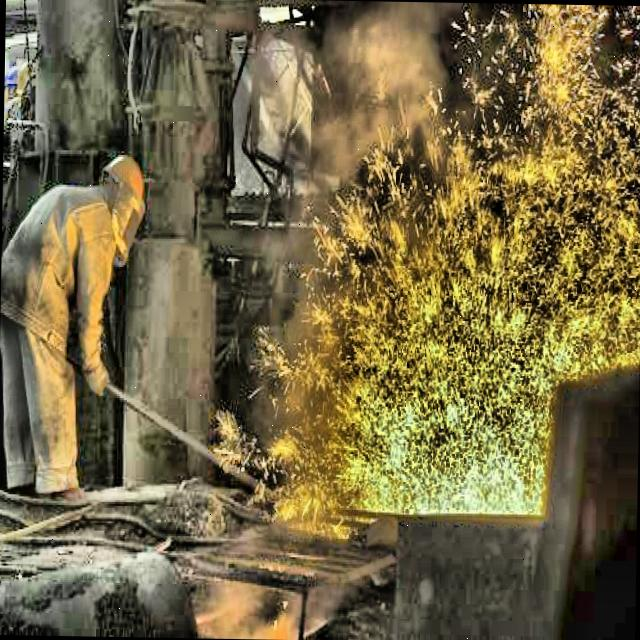helmet: (90, 150, 152, 238)
